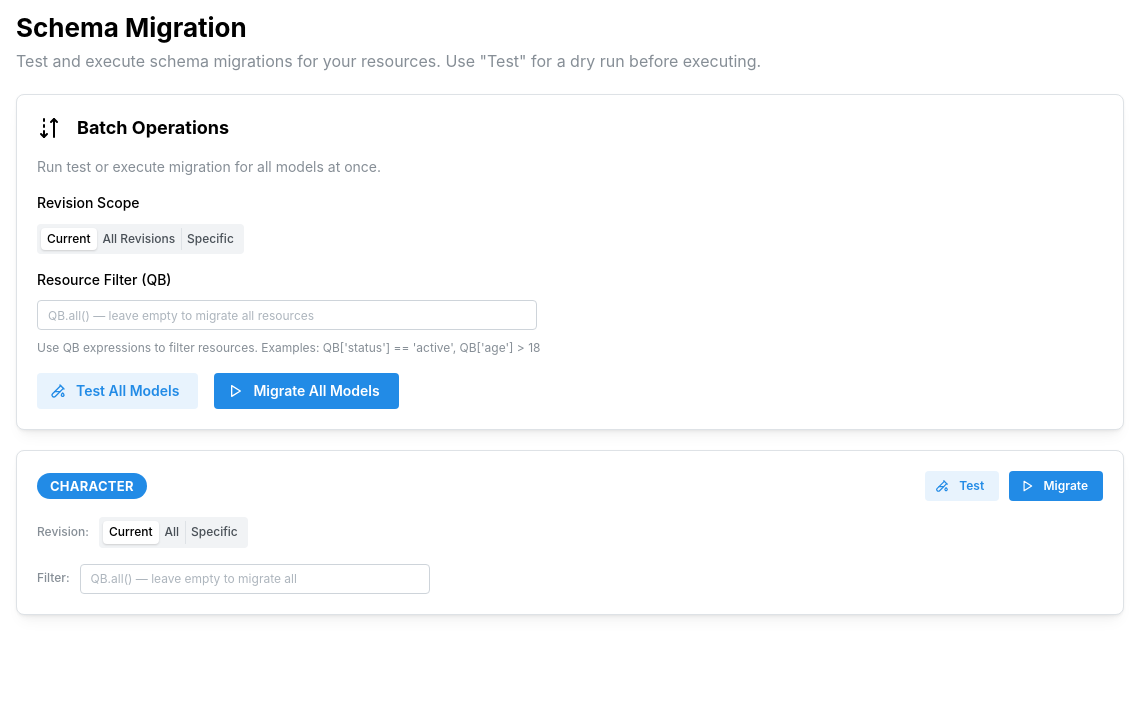
Test case: MigrationStatus › error handling › shows "Operation cancelled." on AbortError
Click the button "Test".
click(962, 486)  # box left=925, top=471, right=999, bottom=501
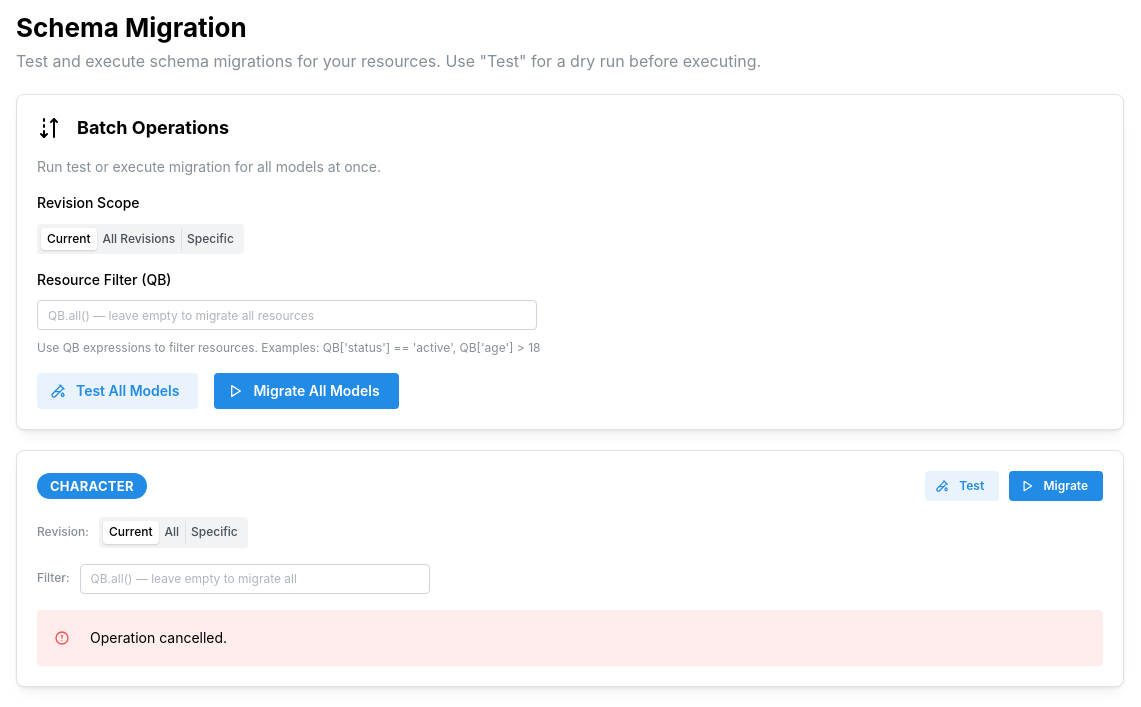
Check: the text "Operation cancelled." is shown, box left=90, top=629, right=227, bottom=646
